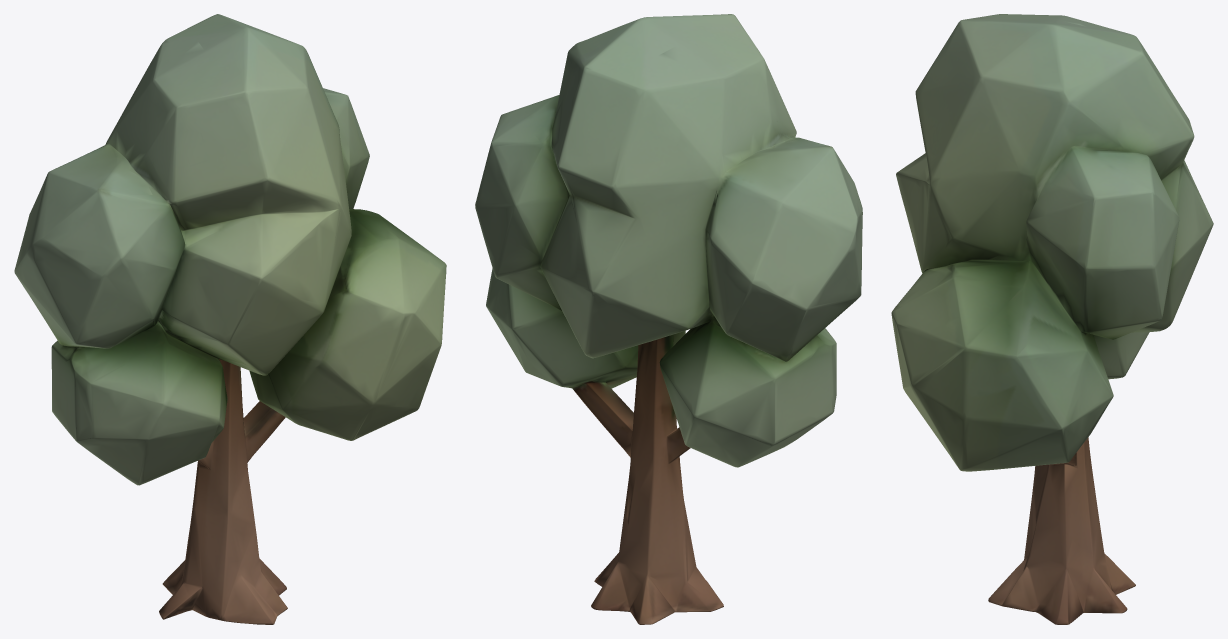
The model's file is tree5.fbx.
3 renders of one model, left to right at view 1: azimuth 30°, elevation 25°; view 2: azimuth 150°, elevation 25°; view 3: azimuth 270°, elevation 25°, orthographic. The views are drawn at different scales.
Parts seen in each view (by area): view 1: tree5; view 2: tree5; view 3: tree5.
Part boxes in pixels (left/top/right/bottom): tree5: left=14, top=14, right=446, bottom=624; tree5: left=475, top=14, right=862, bottom=624; tree5: left=891, top=14, right=1213, bottom=624.
Size of the model in its own units: 32.29 by 47.26 by 23.77.
1 material, 1 textured.
